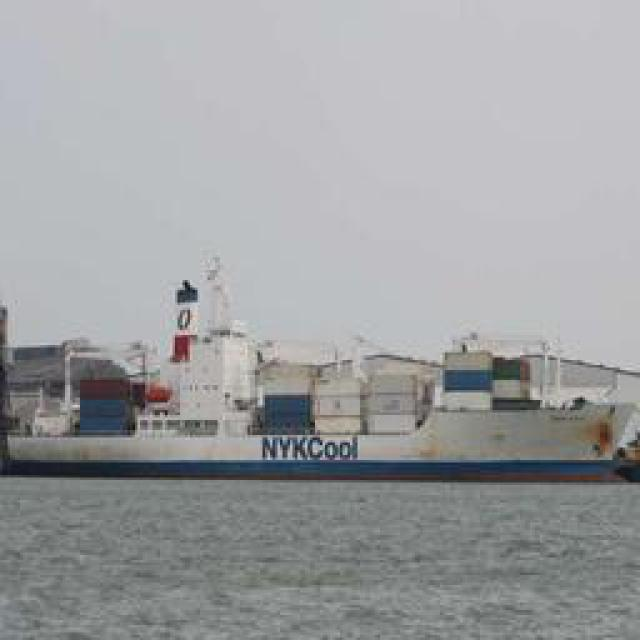Ship: (13, 335, 631, 485)
